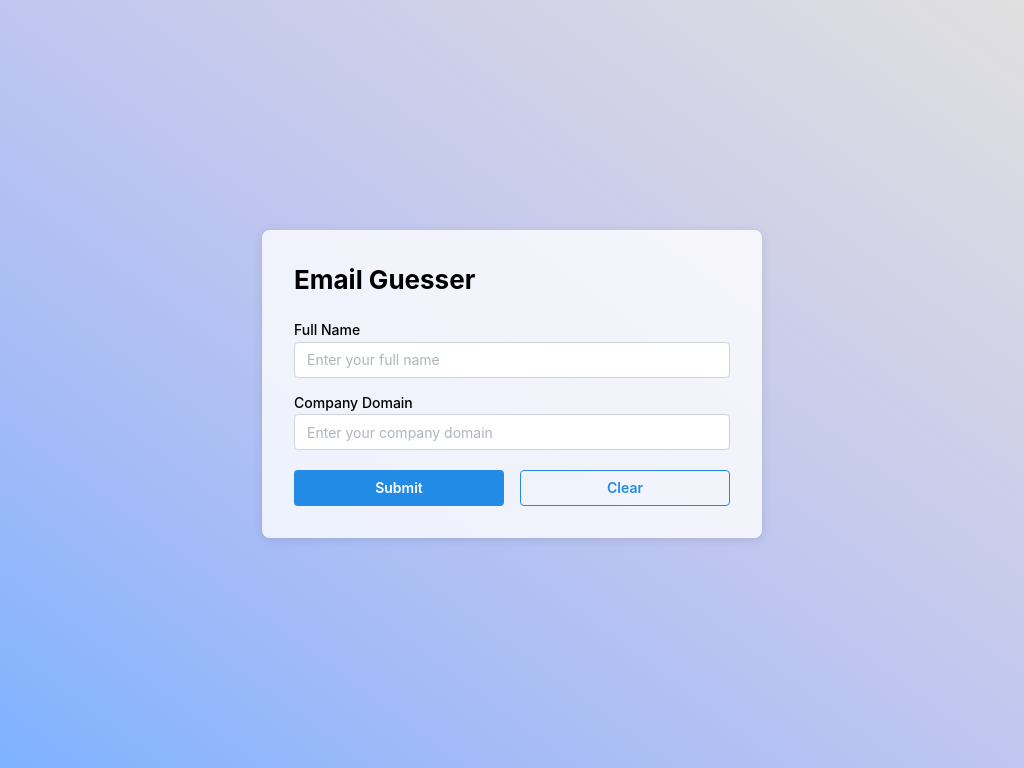
Test case: EmailGuesserForm › submits form successfully and displays derived email
The width and height of the screenshot is (1024, 768).
Type "John Doe" into the field labelled "Full Name".
click(512, 360); type("John Doe")  # box left=294, top=342, right=730, bottom=378
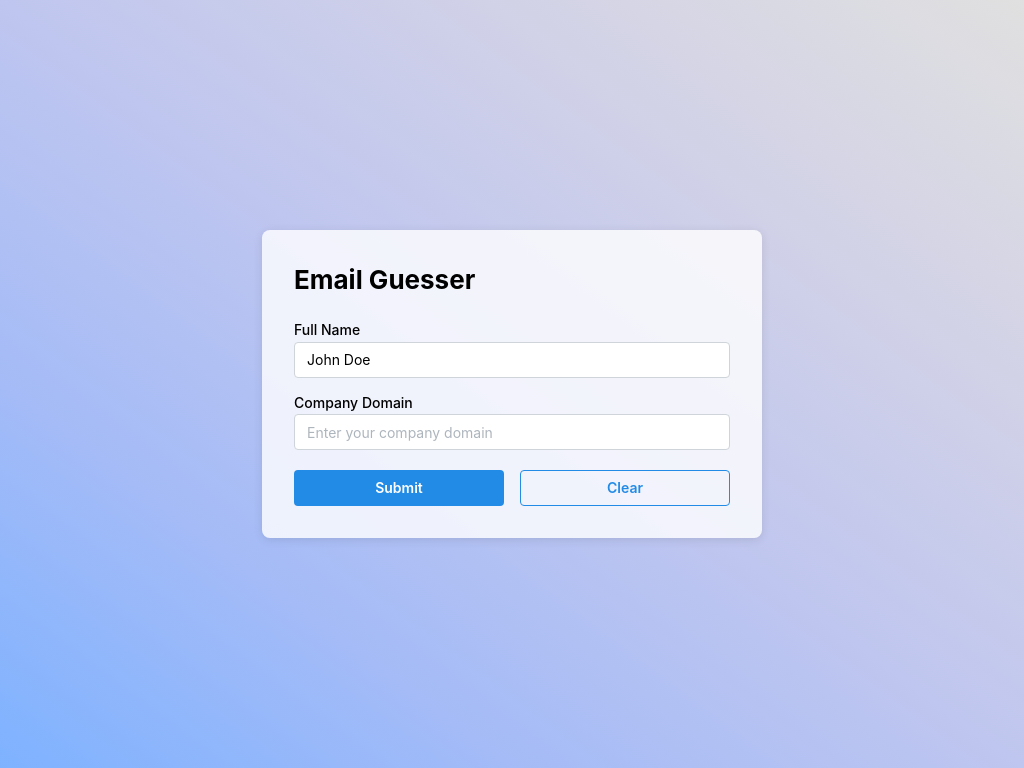
Type "google.com" into the field labelled "Company Domain".
click(512, 432); type("google.com")  # box left=294, top=414, right=730, bottom=450
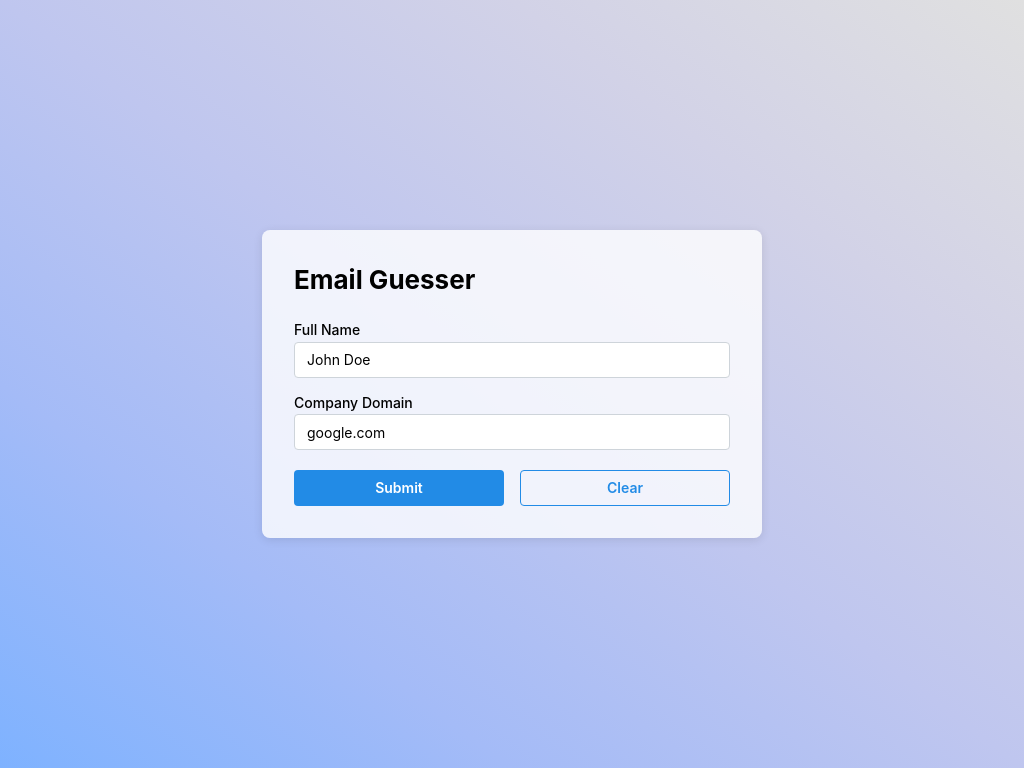
Click the button "Submit".
click(399, 488)  # box left=294, top=470, right=504, bottom=506
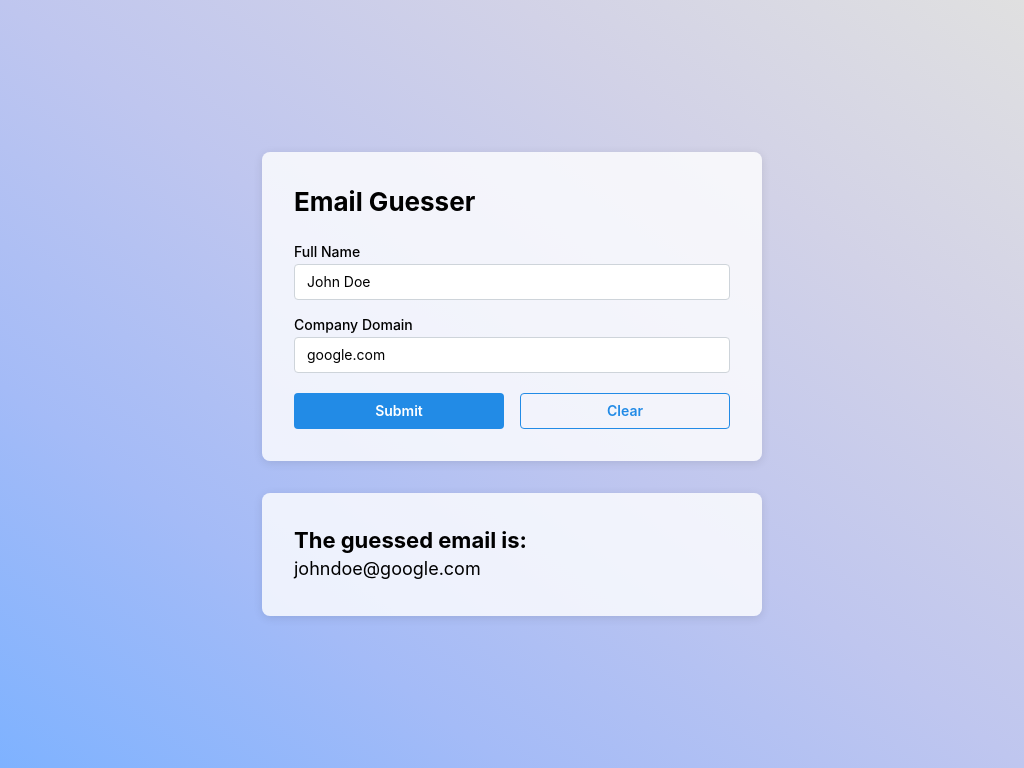
Result: the heading "The guessed email is:" is shown at left=294, top=526, right=527, bottom=552
Result: the text "johndoe@google.com" is shown at left=294, top=558, right=481, bottom=579
